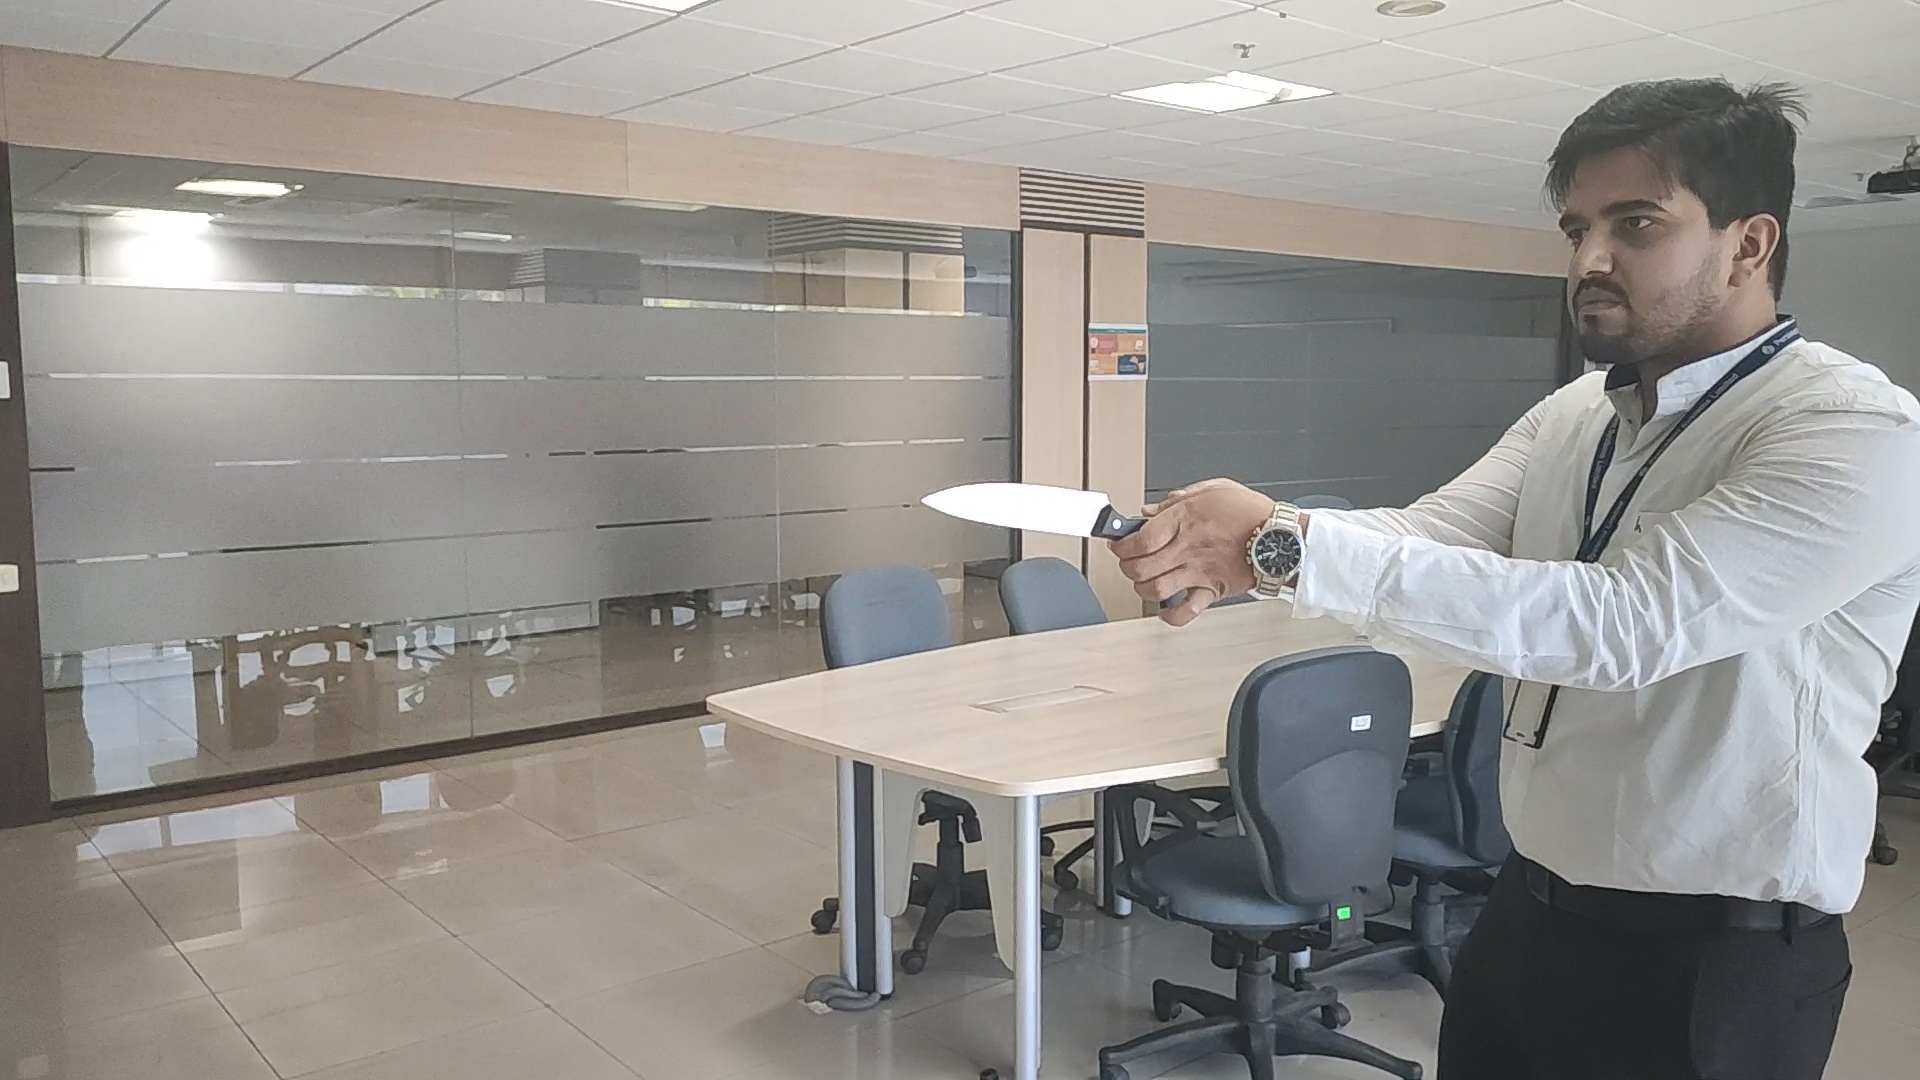knife: (920, 480, 1142, 542)
